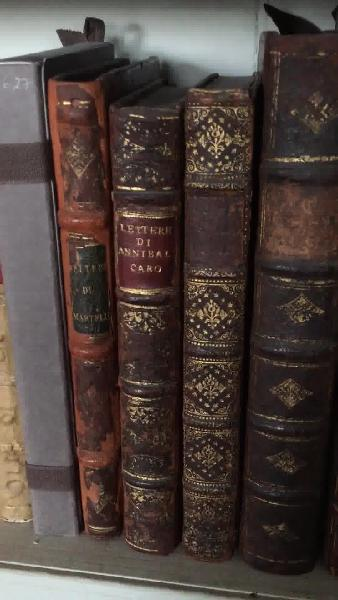Aa6-27: (5, 53, 76, 530)
Aa6-28: (40, 73, 125, 543)
Aa6-29: (104, 96, 185, 558)
Aa6-30: (184, 81, 233, 568)
Aa6-31: (240, 7, 330, 579)
